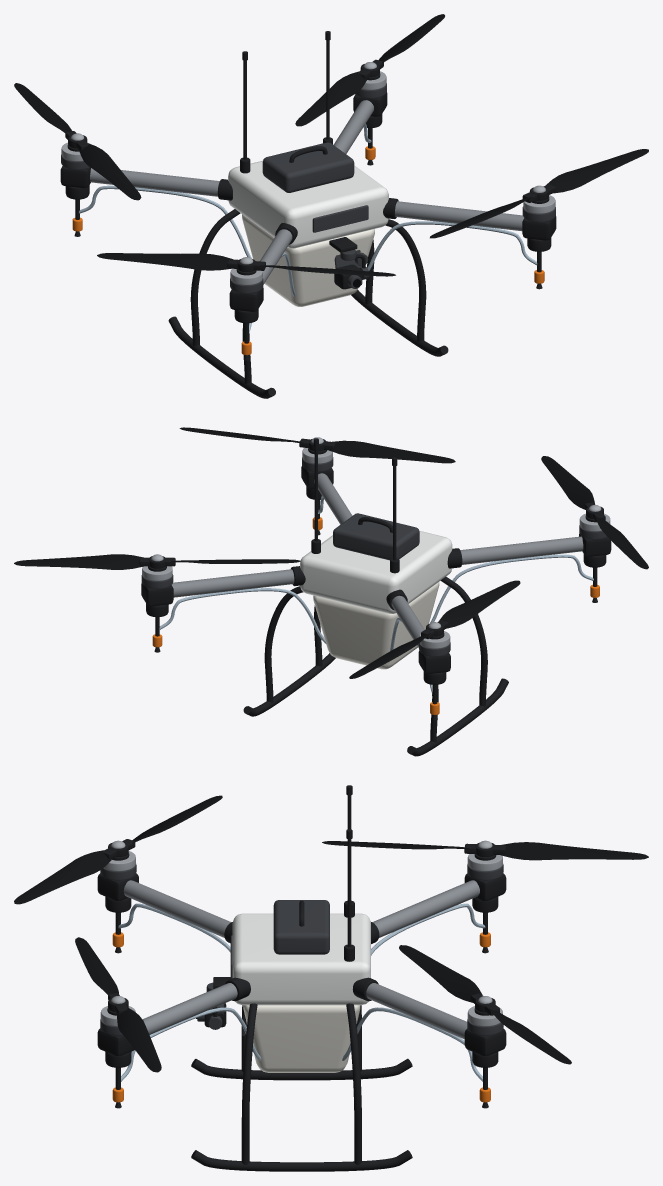
The model's file is pegasus.glb.
3 renders of one model, top to bottom at view 1: azimuth 30°, elevation 25°; view 2: azimuth 150°, elevation 25°; view 3: azimuth 270°, elevation 25°, orthographic. The views are drawn at different scales.
Parts seen in each view (by area): view 1: body, tank, gear, battery, prop_2, prop_1, prop_3, prop_4, arm_1, arm_3, hoses, motor_2 (+7 smaller); view 2: body, tank, gear, battery, prop_4, prop_1, arm_2, prop_3, arm_4, prop_2, hoses, motor_4 (+7 smaller); view 3: body, gear, tank, battery, prop_3, prop_2, prop_4, prop_1, hoses, arm_4, arm_3, arm_2 (+6 smaller).
Boxes of the visible parts, x1,y1,x2,y2 form: body: [228, 160, 388, 248]; tank: [242, 214, 374, 306]; gear: [168, 209, 448, 398]; battery: [262, 142, 354, 192]; prop_2: [97, 253, 395, 276]; prop_1: [430, 149, 648, 238]; prop_3: [14, 83, 141, 200]; prop_4: [295, 14, 444, 126]; arm_1: [383, 198, 523, 231]; arm_3: [90, 168, 232, 200]; hoses: [79, 123, 537, 333]; motor_2: [229, 268, 263, 323]; body: [300, 531, 452, 613]; tank: [313, 582, 439, 669]; gear: [243, 576, 508, 756]; battery: [333, 513, 419, 560]; prop_4: [14, 554, 300, 569]; prop_1: [179, 427, 455, 463]; arm_2: [447, 536, 583, 568]; prop_3: [349, 580, 520, 678]; arm_4: [172, 566, 305, 597]; prop_2: [541, 456, 648, 569]; hoses: [159, 496, 593, 694]; motor_4: [141, 566, 173, 617]; body: [230, 913, 370, 1005]; gear: [191, 1003, 412, 1171]; tank: [242, 1005, 360, 1072]; battery: [273, 900, 329, 954]; prop_3: [322, 840, 648, 860]; prop_2: [14, 795, 222, 904]; prop_4: [399, 945, 571, 1064]; prop_1: [75, 937, 161, 1072]; hoses: [118, 903, 485, 1081]; arm_4: [352, 977, 467, 1039]; arm_3: [371, 880, 479, 943]; arm_2: [123, 880, 232, 943].
Bounding box in the file's own units: 1.51 × 0.809 × 1.47.
